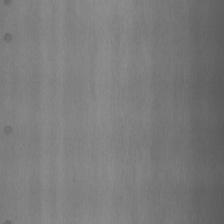oil_spot: (2, 122, 14, 142), (3, 31, 11, 44)
